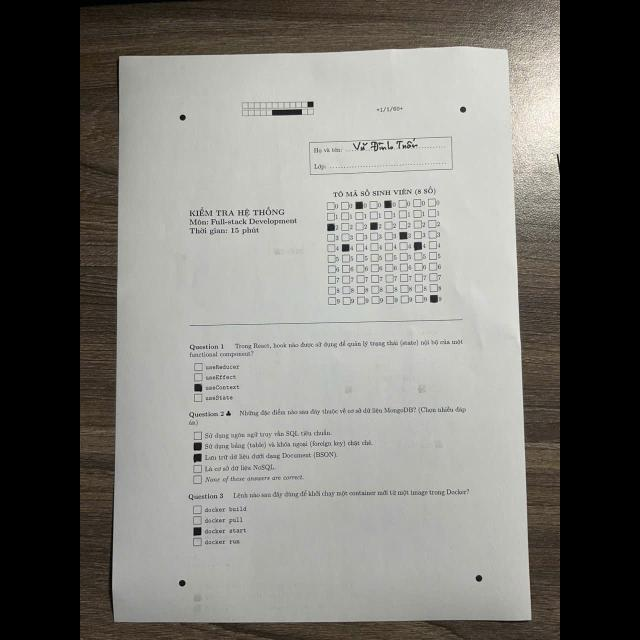Markers: (178, 579, 186, 587), (476, 574, 482, 582), (180, 114, 186, 120), (460, 106, 466, 112)
